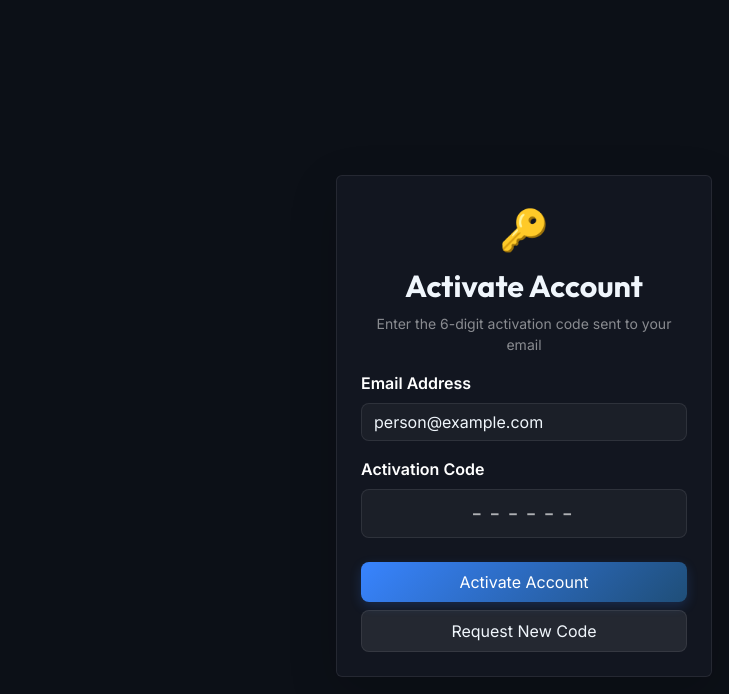
Scenario: repeated submission cannot launch a second pending request
The image size is (729, 694).
Type "123456" into the field labelled "Activation Code" at (524, 513), box [361,489,687,538]
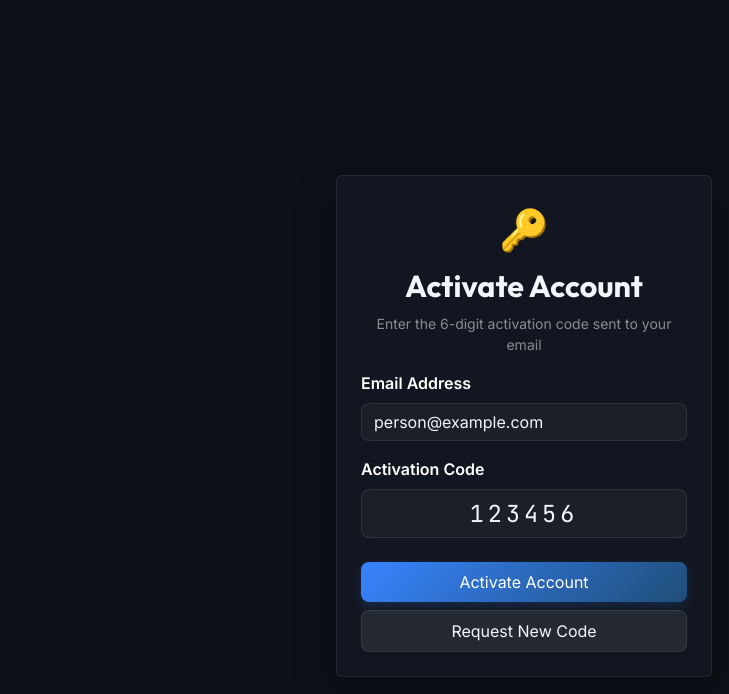
Click the button "Activate Account" at (524, 582), box [361,562,687,602]
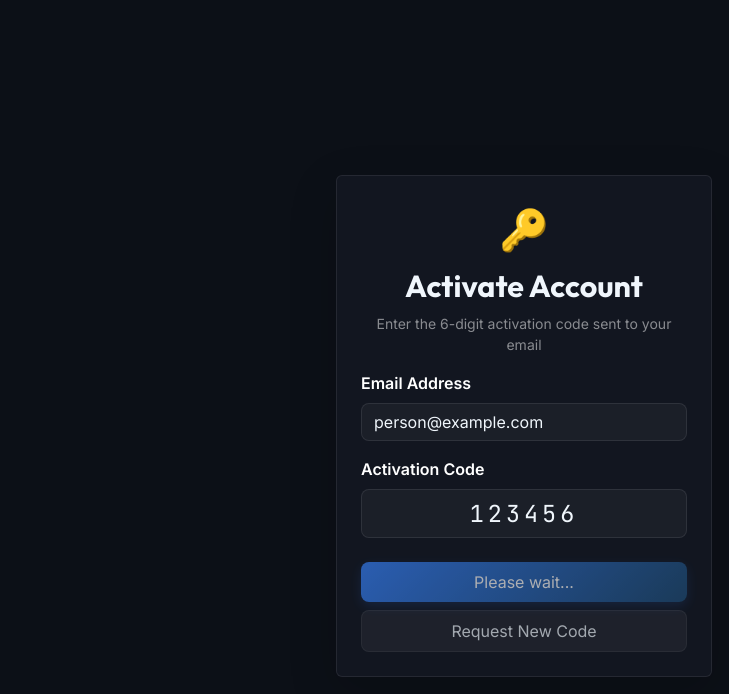
Click the button named "Activate Account" at (524, 582), box [361,562,687,602]
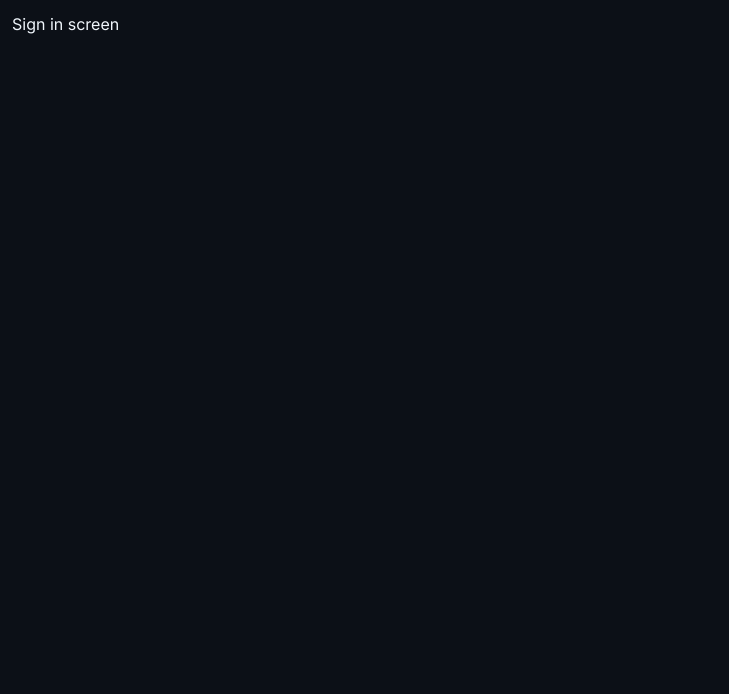
Now the text "Sign in screen" is shown, box [12,14,119,34]
